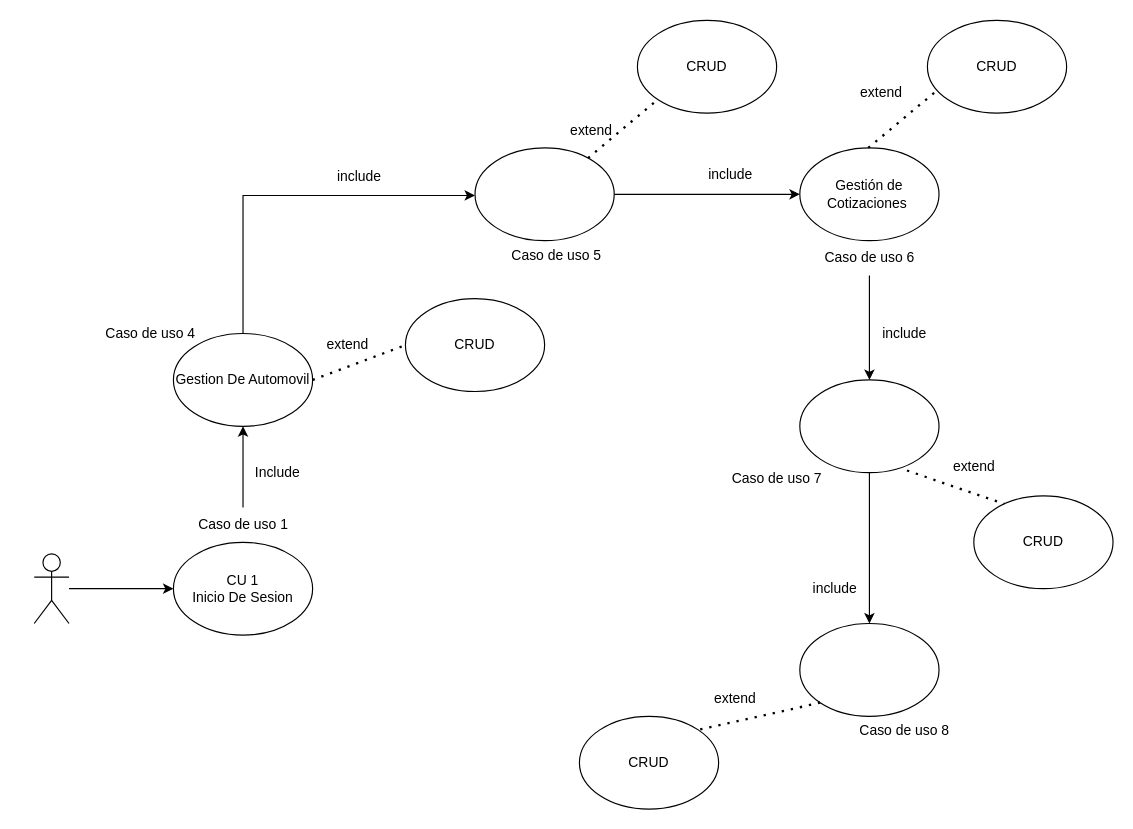
Some shapes in this 1133 by 829 pixel diagram are drawn without their labels. The centre of each missing label's shape, as x and y in pixels:
Empleado: [51,588]
Gestión De Chat: [869,426]
Gestión De Procesos: [544,194]
Gestión De Reportes: [869,669]
